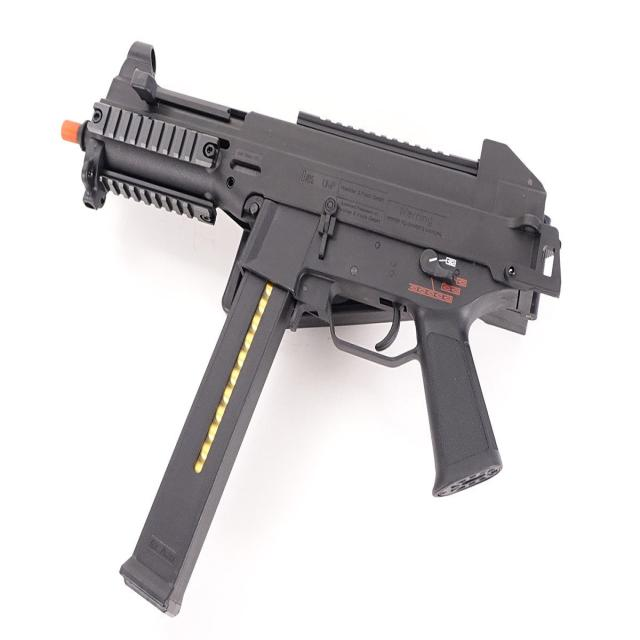SMG: (63, 43, 563, 618)
